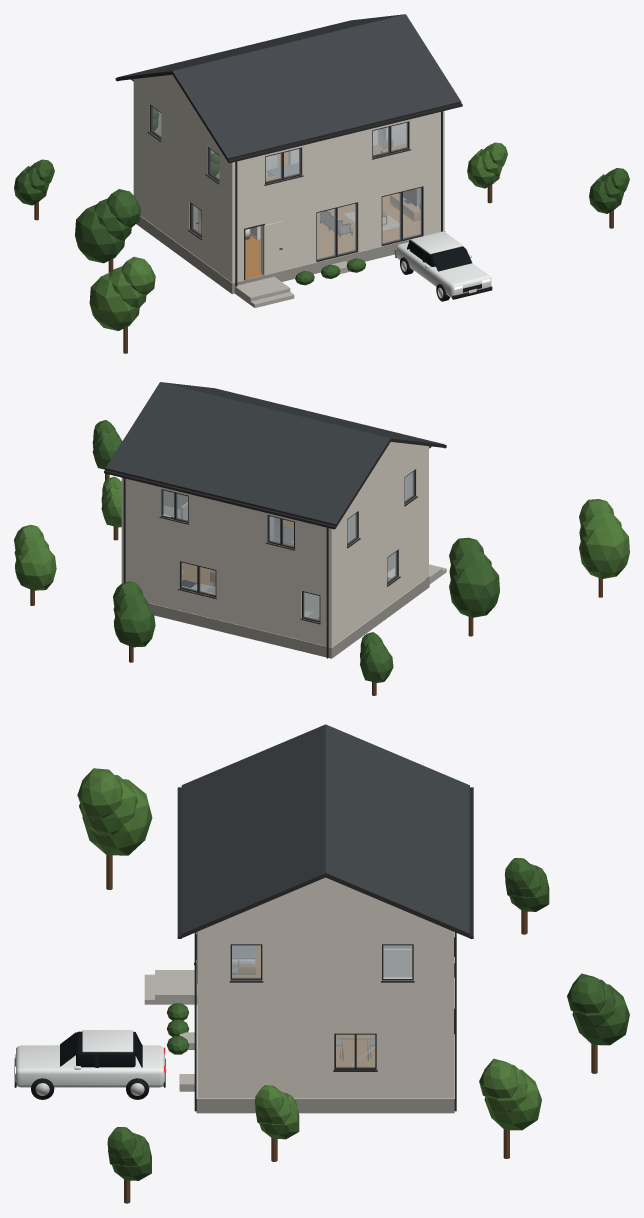
Rendered from sample-model.glb.
The picture shows the model from 3 angles, top to bottom: view 1: azimuth 30°, elevation 25°; view 2: azimuth 150°, elevation 25°; view 3: azimuth 270°, elevation 25°; orthographic projection. The views are drawn at different scales.
Visible parts, largest first — view 1: Roof, Floor1F, Floor2F, 乗用車（コンパクト）, Foundation, Icosphere.006, Icosphere.015, Icosphere.017, Icosphere.008, Icosphere.007, Icosphere.016, Icosphere.018 (+4 smaller); view 2: Roof, Floor1F, Floor2F, Foundation, Icosphere.006, Icosphere.015, Icosphere.003, Icosphere.012, Icosphere, Icosphere.018, Icosphere.007, Icosphere.016 (+3 smaller); view 3: Roof, Floor1F, Floor2F, 乗用車（コンパクト）, Foundation, Icosphere.015, Icosphere.017, Icosphere.003, Icosphere.012, Icosphere.016, Icosphere.005, Icosphere.014 (+8 smaller).
Boxes of the visible parts, box(x1,y1,x2,y2) form: Roof: box(115, 14, 462, 286); Floor1F: box(133, 143, 444, 307); Floor2F: box(133, 78, 444, 214); 乗用車（コンパクト）: box(395, 231, 492, 301); Foundation: box(136, 216, 445, 293); Icosphere.006: box(75, 204, 124, 263); Icosphere.015: box(89, 272, 139, 330); Icosphere.017: box(121, 256, 155, 295); Icosphere.008: box(107, 189, 140, 227); Icosphere.007: box(94, 199, 131, 240); Icosphere.016: box(109, 266, 146, 307); Icosphere.018: box(589, 174, 621, 213); Roof: box(104, 382, 446, 658); Floor1F: box(121, 505, 446, 647); Floor2F: box(121, 445, 428, 579); Foundation: box(148, 576, 429, 658); Icosphere.006: box(449, 563, 499, 617); Icosphere.015: box(579, 524, 629, 578); Icosphere.003: box(15, 547, 56, 590); Icosphere.012: box(114, 603, 155, 647); Icosphere: box(360, 648, 393, 682); Icosphere.018: box(92, 436, 122, 469); Icosphere.007: box(449, 551, 491, 580); Icosphere.016: box(579, 513, 621, 541); Roof: box(177, 724, 473, 1111); Floor1F: box(144, 932, 454, 1098); Floor2F: box(196, 920, 454, 1009); 乗用車（コンパクト）: box(14, 1030, 166, 1099); Foundation: box(179, 963, 454, 1113); Icosphere.015: box(82, 779, 152, 855); Icosphere.017: box(77, 768, 122, 821); Icosphere.003: box(484, 1069, 541, 1130); Icosphere.012: box(572, 984, 629, 1045); Icosphere.016: box(79, 775, 137, 835); Icosphere.005: box(479, 1058, 517, 1098); Icosphere.014: box(567, 973, 605, 1013).
Size of what is drawn, in the model's own units: 22.96 by 7.79 by 17.52.
